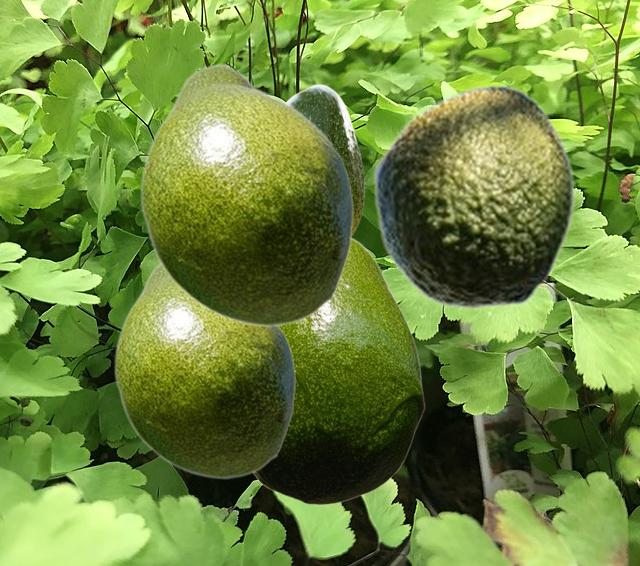avocado: (139, 63, 353, 327), (253, 237, 424, 504), (372, 84, 574, 308), (113, 264, 295, 479), (286, 84, 363, 235)
